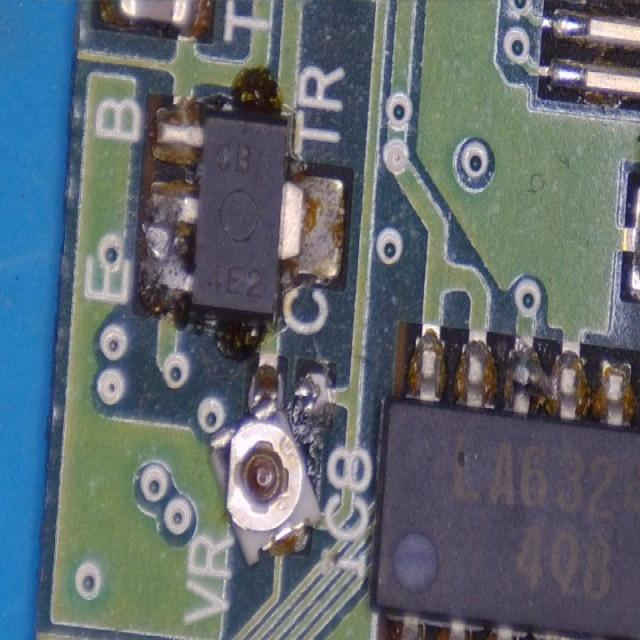Incorrect_installation: (209, 354, 329, 568)
Short_circuit: (139, 183, 200, 314), (505, 338, 590, 420)
